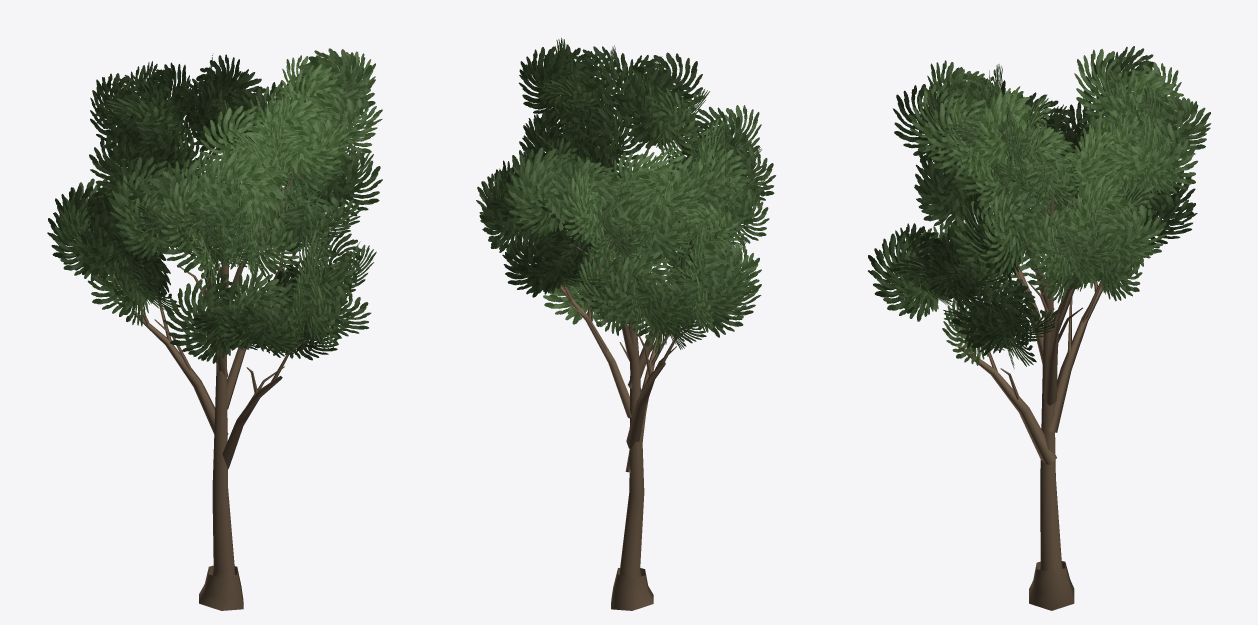
3 renders of one model, left to right at view 1: azimuth 30°, elevation 25°; view 2: azimuth 150°, elevation 25°; view 3: azimuth 270°, elevation 25°, orthographic. The views are drawn at different scales.
Parts seen in each view (by area): view 1: Preserved terminal foliage sprays, Connected simplified trunk and branches; view 2: Preserved terminal foliage sprays, Connected simplified trunk and branches; view 3: Preserved terminal foliage sprays, Connected simplified trunk and branches.
Boxes of the visible parts, x1,y1,x2,y2 form: Preserved terminal foliage sprays: (47, 48, 382, 363); Connected simplified trunk and branches: (133, 171, 306, 610); Preserved terminal foliage sprays: (476, 37, 775, 355); Connected simplified trunk and branches: (560, 142, 698, 610); Preserved terminal foliage sprays: (868, 46, 1211, 368); Connected simplified trunk and branches: (957, 173, 1125, 610).
Size of the model in its own units: 6.23 by 10.06 by 6.39.
